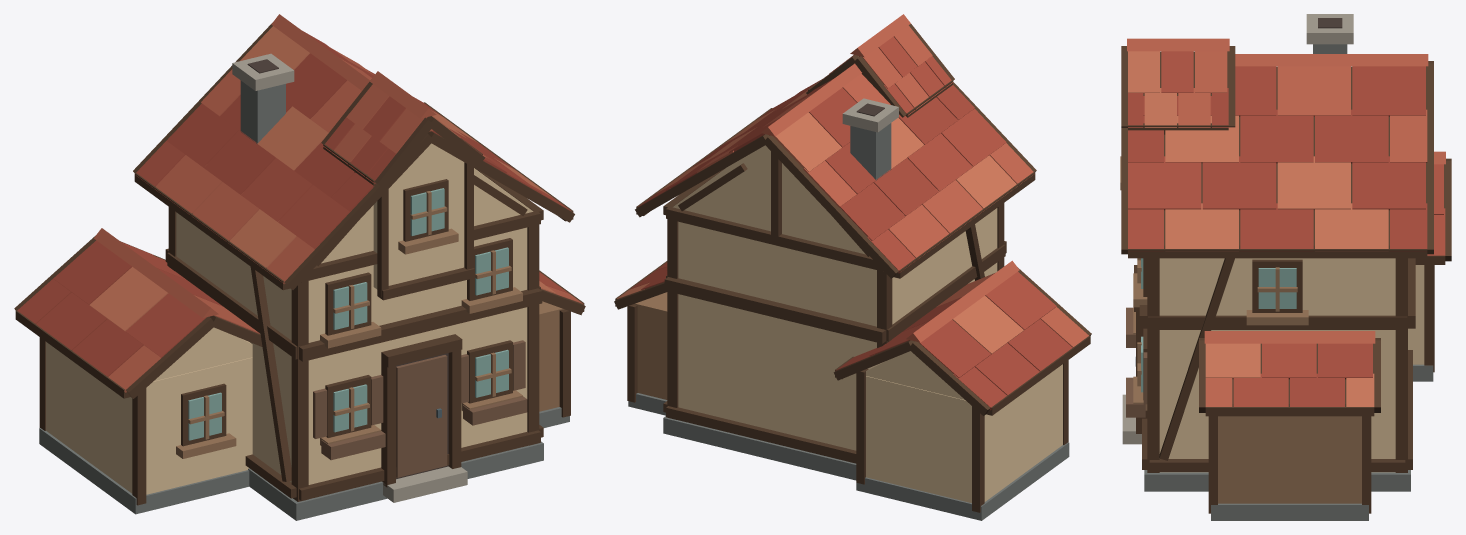
File: ENV_Cottage_A_LOD1.glb
3 renders of one model, left to right at view 1: azimuth 30°, elevation 25°; view 2: azimuth 150°, elevation 25°; view 3: azimuth 270°, elevation 25°, orthographic. The views are drawn at different scales.
Visible parts, largest first — view 1: ENV_Cottage_A_LOD1_roof_upper_roofTiles, ENV_Cottage_A_LOD1_shell_upper_plaster, ENV_Cottage_A_LOD1_shell_upper_woodDark, ENV_Cottage_A_LOD1_wing_plaster, ENV_Cottage_A_LOD1_wing_roofTiles, ENV_Cottage_A_LOD1_shell_upper_wood, ENV_Cottage_A_LOD1_upper_rooms_woodDark, ENV_Cottage_A_LOD1_wing_woodDark, ENV_Cottage_A_LOD1_master_gable_woodDark, ENV_Cottage_A_LOD1_roof_upper_woodDark, ENV_Cottage_A_LOD1_master_gable_plaster, ENV_Cottage_A_LOD1_master_gable_roofTiles (+16 smaller); view 2: ENV_Cottage_A_LOD1_shell_upper_plaster, ENV_Cottage_A_LOD1_roof_upper_roofTiles, ENV_Cottage_A_LOD1_wing_plaster, ENV_Cottage_A_LOD1_wing_roofTiles, ENV_Cottage_A_LOD1_shell_upper_woodDark, ENV_Cottage_A_LOD1_wing_woodDark, ENV_Cottage_A_LOD1_roof_upper_woodDark, ENV_Cottage_A_LOD1_upper_rooms_woodDark, ENV_Cottage_A_LOD1_master_gable_roofTiles, ENV_Cottage_A_LOD1_foundation_stoneDark, ENV_Cottage_A_LOD1_wing_stoneDark, ENV_Cottage_A_LOD1_shed_woodLight (+4 smaller); view 3: ENV_Cottage_A_LOD1_roof_upper_roofTiles, ENV_Cottage_A_LOD1_shell_upper_plaster, ENV_Cottage_A_LOD1_shed_roofTiles, ENV_Cottage_A_LOD1_shed_woodLight, ENV_Cottage_A_LOD1_shell_upper_woodDark, ENV_Cottage_A_LOD1_master_gable_roofTiles, ENV_Cottage_A_LOD1_roof_upper_woodDark, ENV_Cottage_A_LOD1_upper_rooms_woodDark, ENV_Cottage_A_LOD1_shed_woodDark, ENV_Cottage_A_LOD1_shed_stoneDark, ENV_Cottage_A_LOD1_wing_woodDark, ENV_Cottage_A_LOD1_foundation_stoneDark (+9 smaller).
Boxes of the visible parts, x1=… form: ENV_Cottage_A_LOD1_roof_upper_roofTiles: x1=136, y1=14, x2=572, y2=283; ENV_Cottage_A_LOD1_shell_upper_plaster: x1=176, y1=168, x2=533, y2=484; ENV_Cottage_A_LOD1_shell_upper_woodDark: x1=168, y1=168, x2=543, y2=501; ENV_Cottage_A_LOD1_wing_plaster: x1=46, y1=327, x2=252, y2=494; ENV_Cottage_A_LOD1_wing_roofTiles: x1=17, y1=228, x2=259, y2=392; ENV_Cottage_A_LOD1_shell_upper_wood: x1=313, y1=340, x2=525, y2=477; ENV_Cottage_A_LOD1_upper_rooms_woodDark: x1=165, y1=238, x2=542, y2=361; ENV_Cottage_A_LOD1_wing_woodDark: x1=14, y1=235, x2=262, y2=505; ENV_Cottage_A_LOD1_master_gable_woodDark: x1=321, y1=81, x2=484, y2=300; ENV_Cottage_A_LOD1_roof_upper_woodDark: x1=133, y1=23, x2=574, y2=290; ENV_Cottage_A_LOD1_master_gable_plaster: x1=373, y1=143, x2=464, y2=289; ENV_Cottage_A_LOD1_master_gable_roofTiles: x1=323, y1=71, x2=482, y2=183; ENV_Cottage_A_LOD1_shell_upper_plaster: x1=673, y1=145, x2=997, y2=450; ENV_Cottage_A_LOD1_roof_upper_roofTiles: x1=637, y1=56, x2=1033, y2=273; ENV_Cottage_A_LOD1_wing_plaster: x1=866, y1=351, x2=1062, y2=502; ENV_Cottage_A_LOD1_wing_roofTiles: x1=835, y1=260, x2=1088, y2=410; ENV_Cottage_A_LOD1_shell_upper_woodDark: x1=663, y1=151, x2=1004, y2=463; ENV_Cottage_A_LOD1_wing_woodDark: x1=833, y1=267, x2=1091, y2=512; ENV_Cottage_A_LOD1_roof_upper_woodDark: x1=635, y1=81, x2=1036, y2=278; ENV_Cottage_A_LOD1_upper_rooms_woodDark: x1=664, y1=241, x2=1006, y2=343; ENV_Cottage_A_LOD1_master_gable_roofTiles: x1=809, y1=14, x2=953, y2=115; ENV_Cottage_A_LOD1_foundation_stoneDark: x1=663, y1=416, x2=856, y2=480; ENV_Cottage_A_LOD1_wing_stoneDark: x1=856, y1=442, x2=1069, y2=520; ENV_Cottage_A_LOD1_shed_woodLight: x1=634, y1=292, x2=667, y2=399; ENV_Cottage_A_LOD1_roof_upper_roofTiles: x1=1128, y1=54, x2=1428, y2=251; ENV_Cottage_A_LOD1_shell_upper_plaster: x1=1159, y1=258, x2=1395, y2=472; ENV_Cottage_A_LOD1_shed_roofTiles: x1=1204, y1=331, x2=1375, y2=406; ENV_Cottage_A_LOD1_shed_woodLight: x1=1218, y1=416, x2=1361, y2=503; ENV_Cottage_A_LOD1_shell_upper_woodDark: x1=1134, y1=258, x2=1412, y2=472; ENV_Cottage_A_LOD1_master_gable_roofTiles: x1=1127, y1=38, x2=1229, y2=127; ENV_Cottage_A_LOD1_roof_upper_woodDark: x1=1121, y1=61, x2=1433, y2=258; ENV_Cottage_A_LOD1_upper_rooms_woodDark: x1=1139, y1=258, x2=1415, y2=329; ENV_Cottage_A_LOD1_shed_woodDark: x1=1199, y1=338, x2=1380, y2=513; ENV_Cottage_A_LOD1_shed_stoneDark: x1=1211, y1=503, x2=1368, y2=520; ENV_Cottage_A_LOD1_wing_woodDark: x1=1415, y1=158, x2=1451, y2=372; ENV_Cottage_A_LOD1_foundation_stoneDark: x1=1144, y1=470, x2=1410, y2=491.
Bounding box in the file's own units: 7.18 × 5.93 × 4.54.
